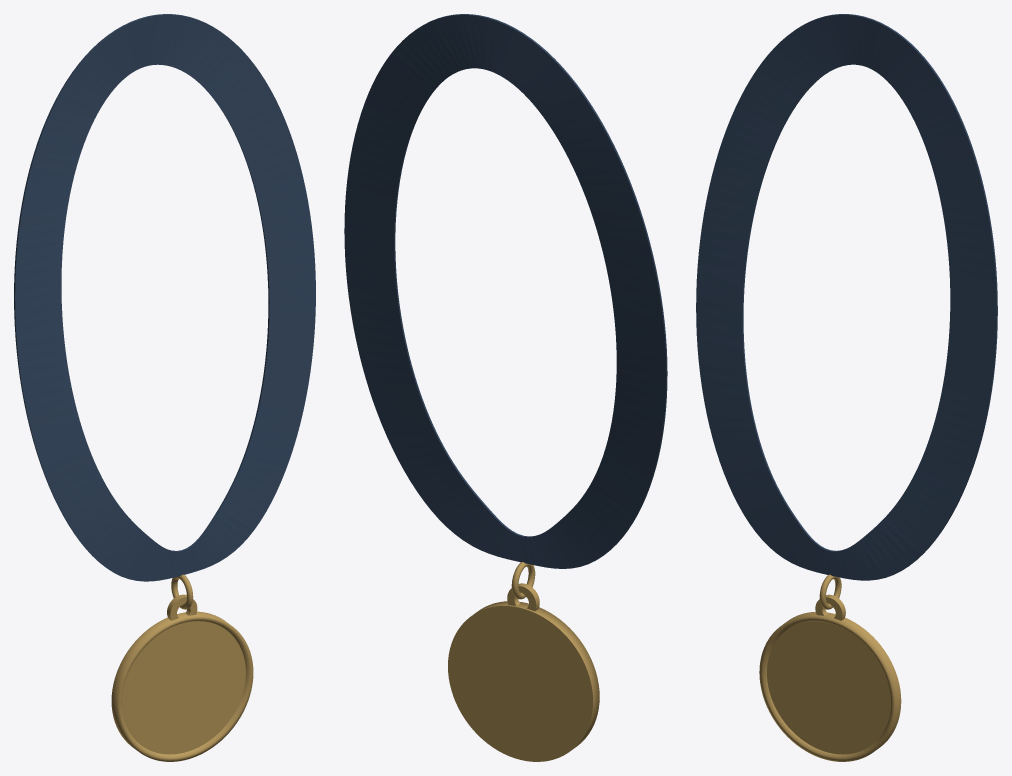
Rendered from A-NEW-20261027-MEDAL-001_LOD0_R2.glb.
3 views of the same model, side by side, from view 1: azimuth 30°, elevation 25°; view 2: azimuth 150°, elevation 25°; view 3: azimuth 330°, elevation 25° (orthographic). The views are drawn at different scales.
Parts seen in each view (by area): view 1: complete broad neck ribbon loop, plain rimmed medal disc; view 2: complete broad neck ribbon loop, plain rimmed medal disc; view 3: complete broad neck ribbon loop, plain rimmed medal disc.
Boxes of the visible parts, x1=… form: complete broad neck ribbon loop: x1=14, y1=14, x2=315, y2=581; plain rimmed medal disc: x1=111, y1=611, x2=253, y2=761; complete broad neck ribbon loop: x1=344, y1=14, x2=667, y2=568; plain rimmed medal disc: x1=448, y1=601, x2=599, y2=761; complete broad neck ribbon loop: x1=696, y1=14, x2=997, y2=580; plain rimmed medal disc: x1=759, y1=612, x2=901, y2=761.
Bounding box in the file's own units: 0.154 × 0.353 × 0.0392.
